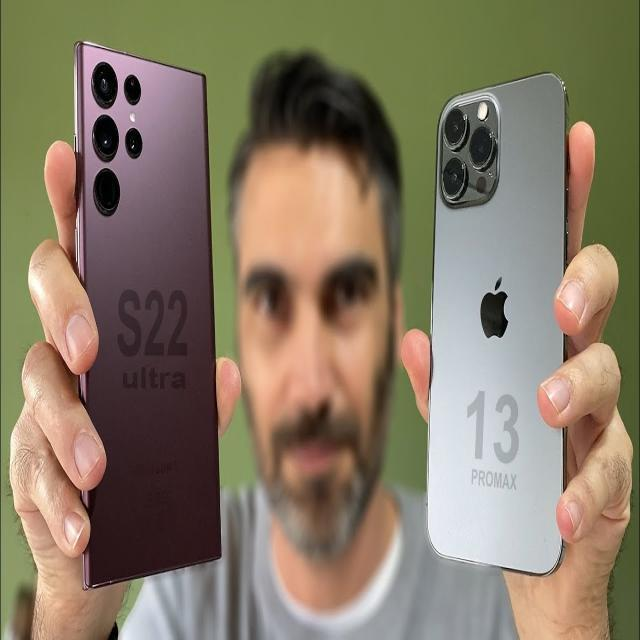phone: (74, 39, 222, 592), (427, 71, 569, 575)
